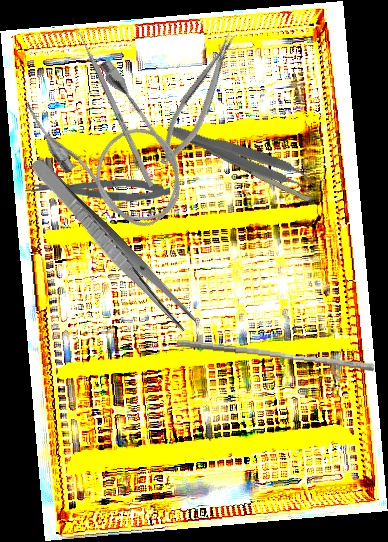Cannula: (18, 48, 204, 249)
Dressing Forceps: (25, 155, 198, 334)
Micro Scissor: (24, 173, 171, 204)
Needle Holder: (148, 28, 250, 172), (202, 126, 319, 205)
Pusher: (69, 16, 155, 188), (174, 339, 377, 372)
Tissue Forceps: (162, 118, 320, 199)
